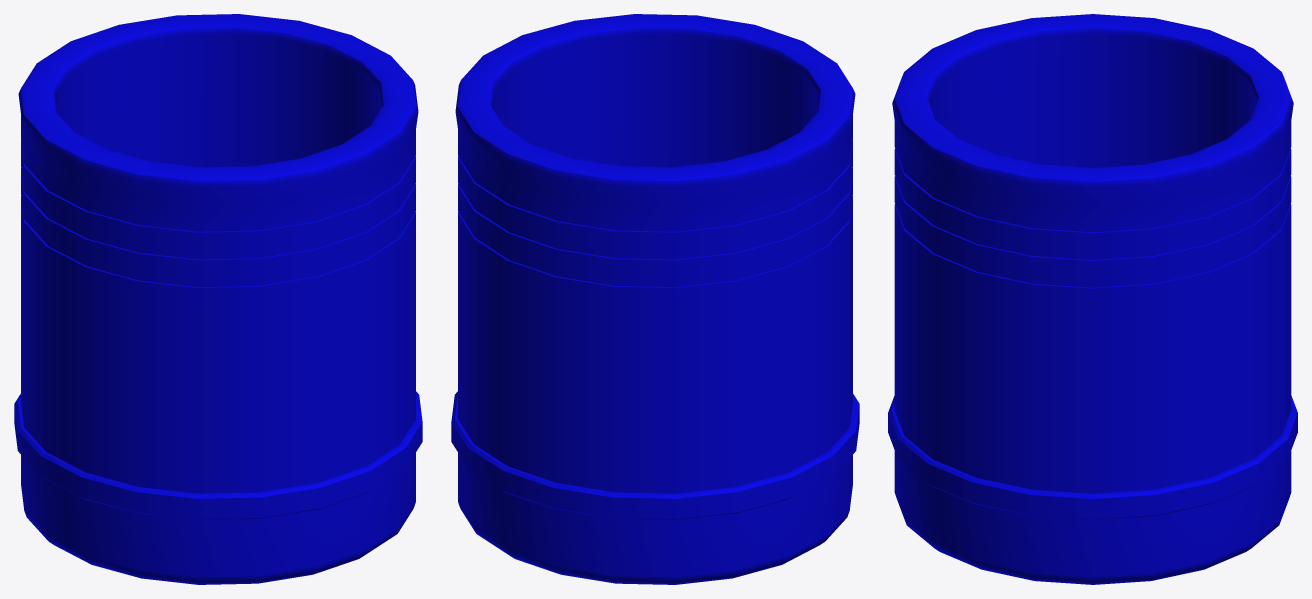
File: Cup.fbx
The picture shows the model from 3 angles, left to right: view 1: azimuth 30°, elevation 25°; view 2: azimuth 150°, elevation 25°; view 3: azimuth 270°, elevation 25°; orthographic projection.
Parts seen in each view (by area): view 1: Cup; view 2: Cup; view 3: Cup.
Boxes of the visible parts, x1,y1,x2,y2 form: Cup: (14,14,422,584); Cup: (451,14,859,584); Cup: (888,14,1297,584).
Bounding box in the file's own units: 0.7424 × 0.8222 × 0.7424.
